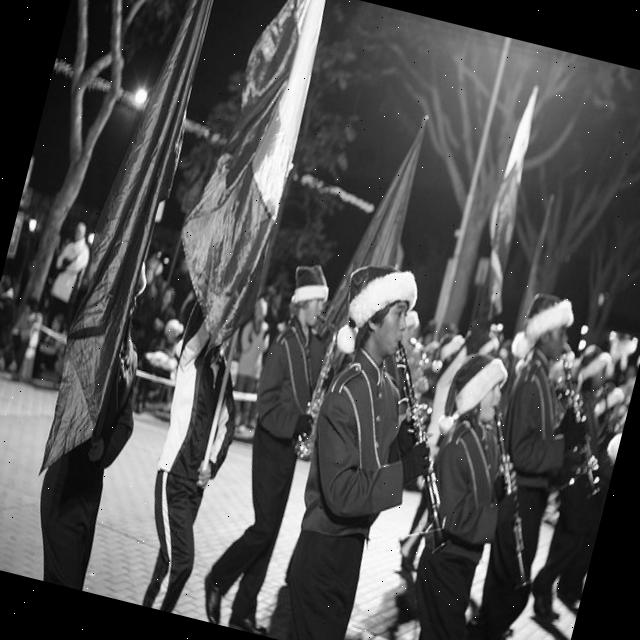clarinet: (348, 341, 494, 560), (447, 402, 574, 600), (526, 350, 632, 504)
saxophone: (278, 312, 352, 468), (399, 334, 440, 407)
